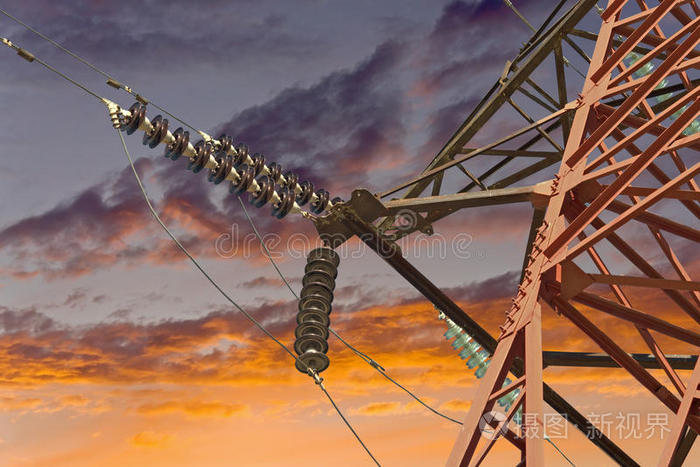insulator: (119, 99, 296, 217), (215, 137, 329, 215), (442, 323, 527, 423), (290, 249, 343, 376), (624, 52, 700, 133)
